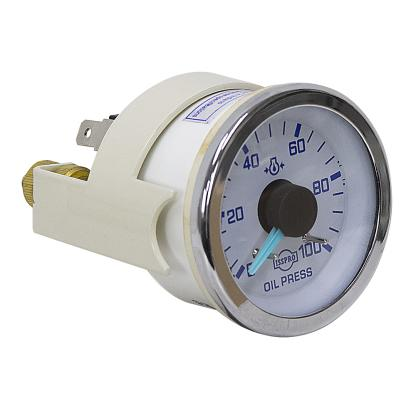needle: (246, 225, 286, 278)
